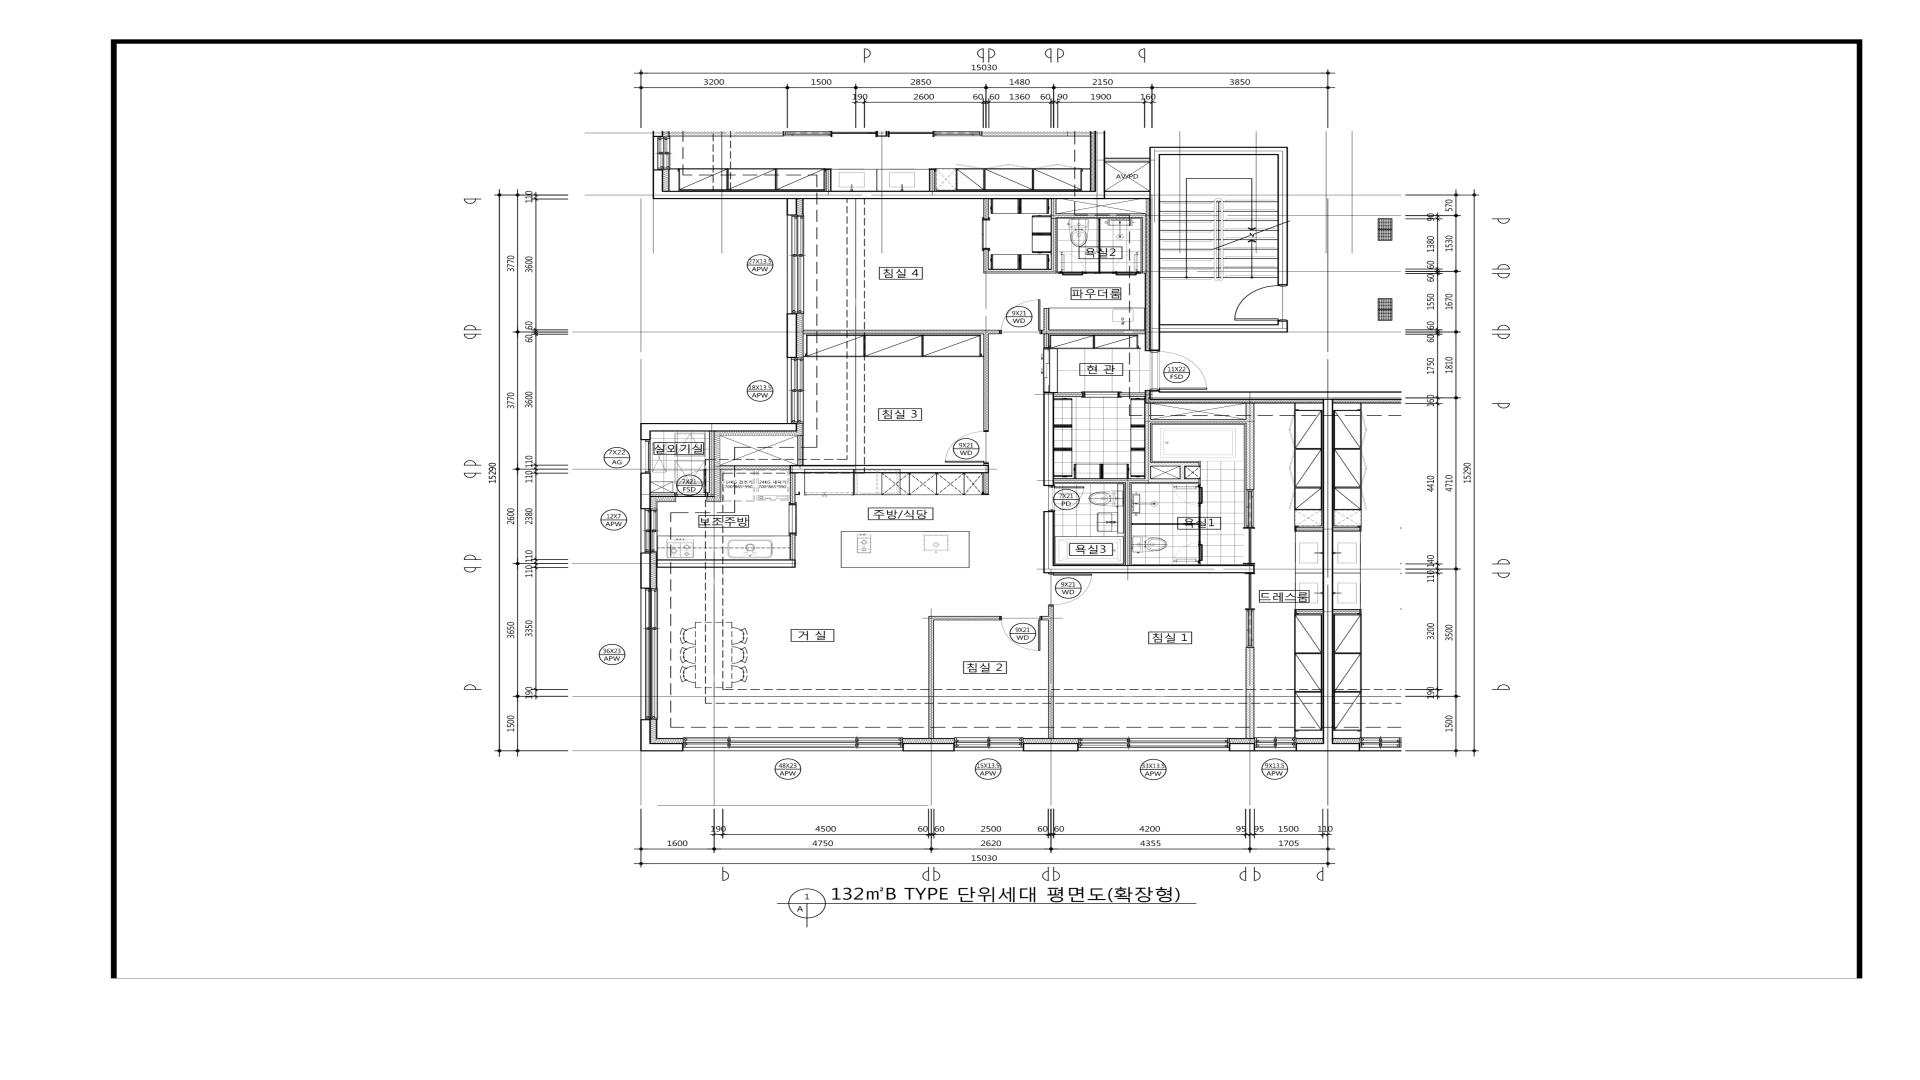door: (1150, 351, 1207, 390), (1234, 285, 1288, 320), (944, 430, 989, 463), (1001, 616, 1042, 651), (1000, 299, 1042, 334), (1048, 574, 1093, 605), (1048, 485, 1084, 512), (1244, 489, 1255, 564), (674, 469, 705, 497), (1245, 572, 1254, 647), (1058, 252, 1084, 276), (1174, 543, 1203, 564), (1174, 484, 1203, 504), (1116, 252, 1141, 274), (1043, 348, 1050, 392), (1083, 392, 1120, 398), (982, 219, 990, 249), (789, 508, 796, 538)
wall: (1323, 400, 1333, 752), (783, 191, 1095, 199), (1150, 390, 1402, 400), (1150, 156, 1160, 351), (1043, 564, 1254, 574), (790, 465, 989, 473), (1160, 320, 1288, 332), (1278, 156, 1288, 285), (1150, 146, 1288, 156), (650, 423, 796, 431), (655, 559, 795, 567), (1043, 392, 1054, 487), (803, 330, 1000, 334), (1054, 479, 1200, 484), (1095, 131, 1105, 199), (1246, 647, 1254, 738), (1048, 605, 1054, 738), (1246, 402, 1254, 489), (1124, 484, 1131, 564), (982, 334, 989, 430), (928, 620, 934, 738), (1043, 512, 1055, 564), (705, 431, 715, 497), (1023, 742, 1079, 752), (1145, 402, 1151, 479), (1051, 214, 1146, 219), (902, 742, 955, 752), (1042, 330, 1146, 334), (787, 314, 796, 357), (640, 472, 650, 509), (1151, 419, 1246, 423), (1105, 191, 1151, 199), (1051, 219, 1058, 273), (640, 719, 650, 752), (641, 553, 650, 588), (928, 616, 1001, 620), (1141, 219, 1146, 273), (720, 465, 790, 469), (984, 269, 1051, 273), (650, 744, 683, 752), (1151, 462, 1199, 467), (1296, 744, 1323, 752), (1229, 744, 1255, 752), (796, 435, 803, 465), (790, 473, 795, 508), (1105, 158, 1150, 162), (786, 199, 796, 215), (641, 423, 650, 440), (1043, 309, 1050, 330), (650, 492, 674, 497), (1054, 393, 1083, 397), (790, 538, 795, 559), (984, 473, 989, 495), (1295, 609, 1323, 613), (1295, 527, 1323, 531), (1199, 504, 1201, 545), (984, 249, 989, 269), (1120, 393, 1146, 397), (984, 199, 989, 219), (1131, 524, 1199, 525), (1084, 272, 1116, 274), (1051, 199, 1056, 214), (1043, 334, 1048, 348), (1098, 219, 1100, 272), (1180, 467, 1185, 479), (1042, 616, 1048, 620), (984, 463, 989, 465)
window: (683, 737, 902, 752), (640, 588, 658, 720), (1079, 738, 1229, 752), (787, 215, 804, 314), (787, 357, 803, 423), (955, 737, 1023, 752), (641, 509, 658, 553), (1255, 737, 1296, 752), (640, 440, 650, 473)
